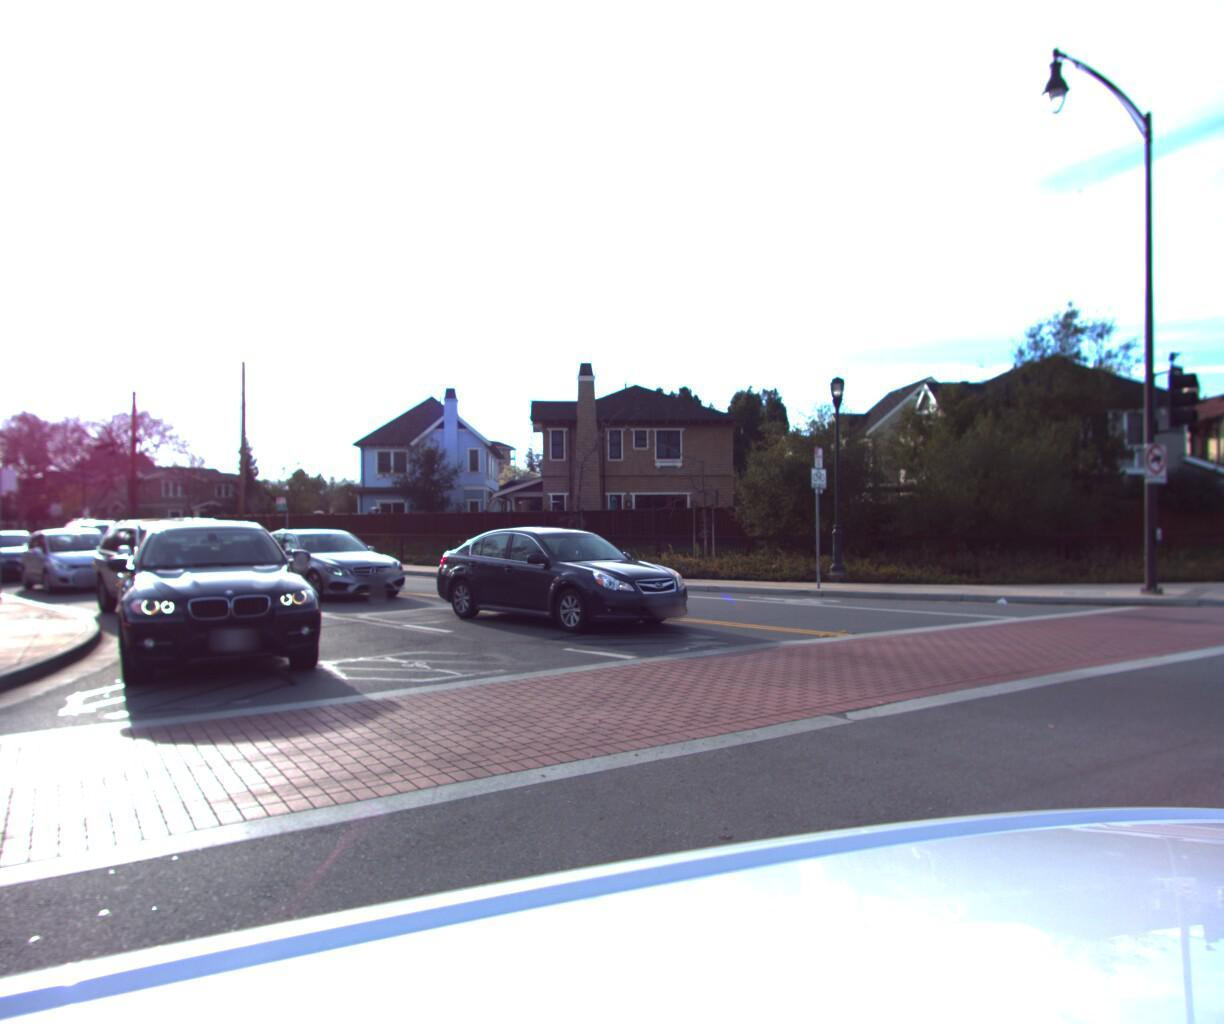car: (109, 506, 336, 694), (423, 517, 714, 639), (78, 509, 276, 631), (231, 525, 418, 605), (5, 524, 135, 597), (58, 518, 149, 570), (0, 526, 56, 586)
